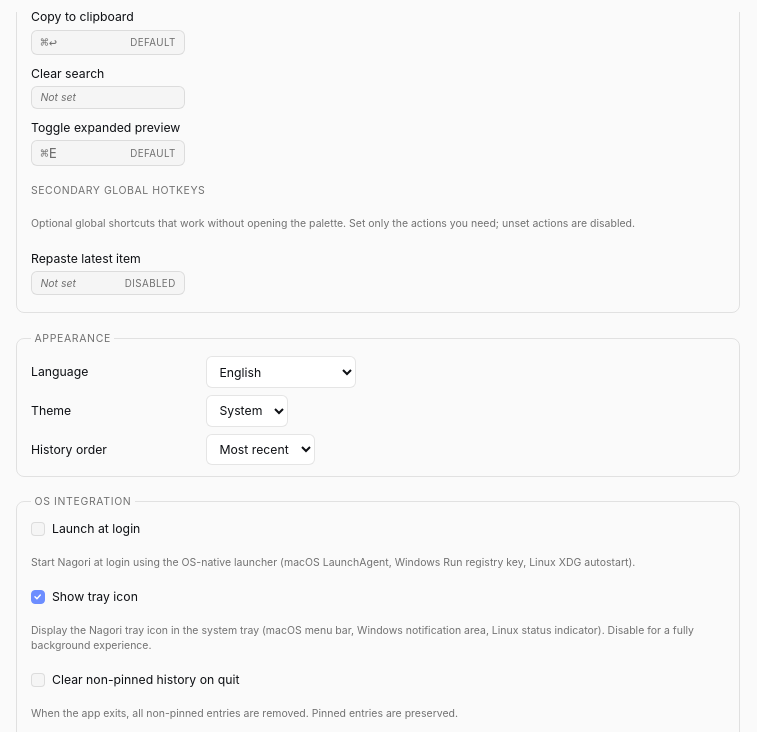
Test: SettingsView › updates the active locale when the language picker changes
(page scrolled)
Select "日本語" in the dropdown labelled "Language" at (281, 372), box [206,356,356,388]
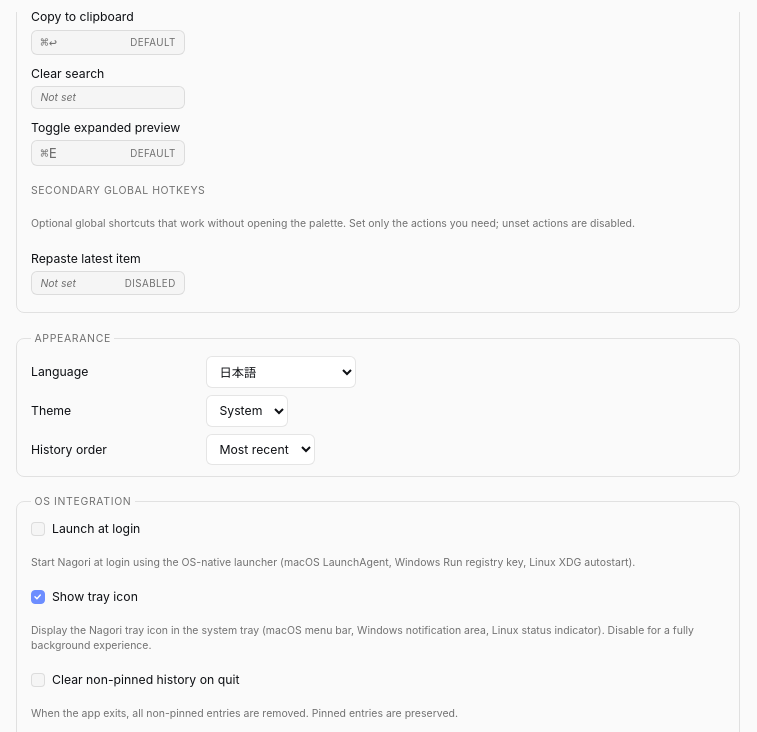
Select "日本語" in the dropdown labelled "Language" at (281, 372), box [206,356,356,388]
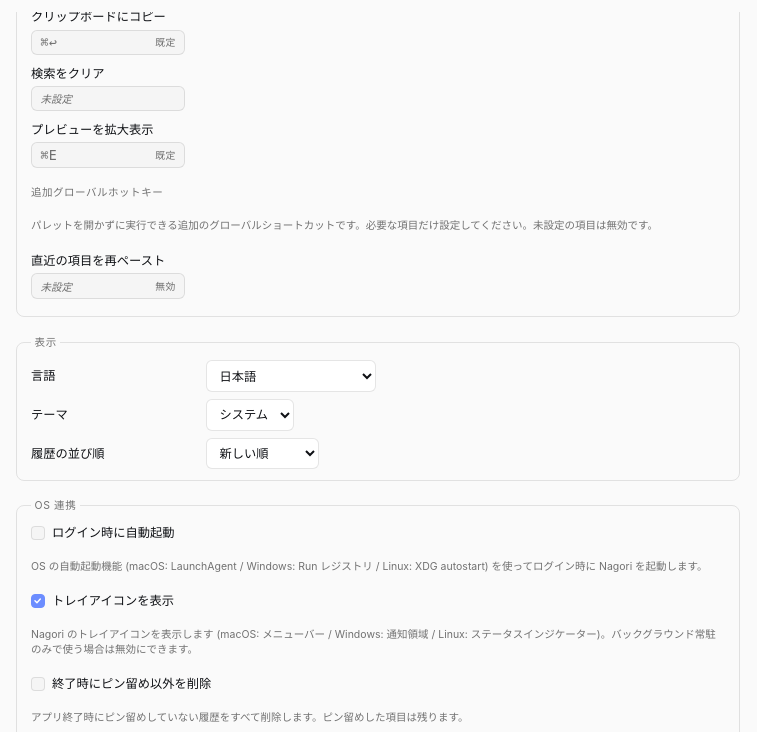
Expected: the text "パレットを開かずに実行できる追加のグローバルショートカットです。必要な項目だけ設定してください。未設定の項目は無効です。" is shown, [31,218,725,233]
